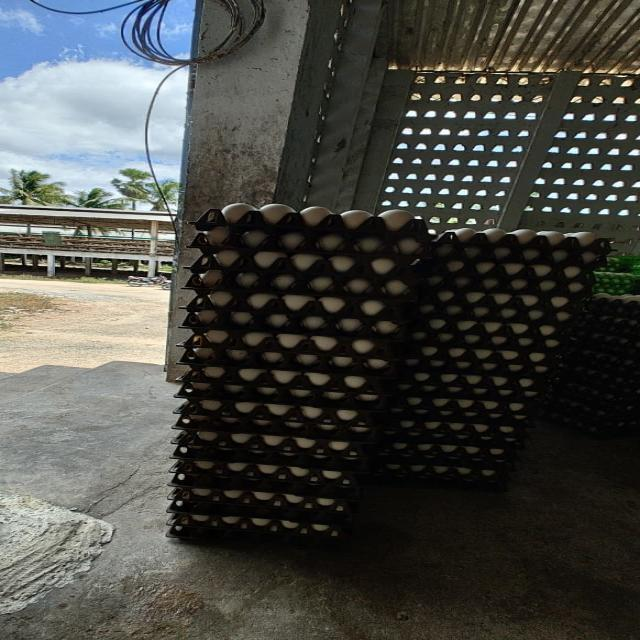egg_tray: (378, 230, 607, 487), (407, 230, 592, 390), (378, 320, 548, 488), (186, 245, 412, 368), (172, 414, 367, 534), (189, 204, 430, 298), (374, 358, 539, 489), (421, 229, 608, 338), (383, 338, 550, 460), (421, 229, 608, 337), (181, 290, 406, 375), (377, 363, 536, 483), (180, 307, 401, 392), (181, 291, 415, 371), (185, 256, 413, 337), (181, 294, 400, 376), (183, 292, 404, 372), (180, 332, 396, 409), (421, 232, 607, 320), (169, 452, 357, 537), (168, 455, 358, 538), (176, 392, 369, 472), (173, 399, 380, 472), (169, 460, 358, 539), (184, 292, 400, 360), (398, 322, 561, 412), (180, 366, 379, 439), (175, 400, 375, 472), (191, 204, 430, 263), (410, 283, 578, 366), (380, 374, 540, 460), (545, 294, 639, 436), (190, 224, 432, 278), (399, 317, 561, 396), (174, 394, 375, 457), (413, 274, 588, 346), (172, 434, 368, 498), (181, 290, 415, 342), (168, 463, 357, 526), (185, 250, 413, 302), (175, 399, 384, 454), (419, 255, 592, 321), (411, 279, 581, 346), (396, 346, 554, 416), (374, 412, 527, 484), (391, 360, 549, 429), (176, 367, 395, 411), (172, 414, 374, 461), (172, 424, 374, 470), (432, 228, 609, 280), (179, 336, 397, 378), (169, 488, 351, 538), (422, 253, 592, 306), (378, 419, 521, 482), (184, 290, 404, 330), (544, 344, 639, 435), (167, 490, 352, 536), (169, 460, 360, 502), (178, 366, 395, 402), (195, 203, 426, 236), (168, 500, 350, 540), (183, 328, 398, 361), (382, 412, 521, 462), (407, 325, 561, 370), (382, 402, 529, 448), (169, 488, 355, 524), (563, 294, 639, 378), (396, 370, 543, 413), (543, 371, 639, 436), (382, 404, 528, 446), (552, 344, 639, 410), (168, 514, 350, 544), (173, 446, 366, 474), (369, 454, 511, 490), (547, 380, 639, 434), (399, 352, 549, 384), (380, 414, 520, 448), (555, 367, 639, 420), (395, 385, 534, 415), (572, 294, 639, 356), (372, 460, 509, 490), (544, 395, 639, 438), (379, 441, 515, 470), (399, 371, 543, 398), (305, 210, 428, 240), (559, 342, 639, 384), (578, 294, 639, 338), (581, 294, 639, 337), (574, 323, 637, 358), (235, 205, 308, 232), (463, 379, 533, 406), (188, 292, 227, 322), (595, 272, 639, 295), (423, 385, 468, 406), (313, 435, 353, 457), (581, 234, 607, 265), (598, 254, 639, 273), (208, 206, 245, 224), (180, 504, 209, 526), (189, 309, 218, 322), (200, 432, 232, 443), (190, 367, 224, 377), (440, 244, 476, 253), (333, 354, 352, 371), (187, 344, 206, 360), (221, 369, 243, 380), (362, 300, 382, 312), (229, 380, 251, 390), (298, 354, 315, 366), (261, 372, 294, 378), (258, 356, 282, 364), (457, 325, 476, 335), (302, 256, 327, 263), (225, 299, 244, 308), (294, 527, 318, 534), (450, 326, 470, 334), (376, 327, 393, 336), (263, 356, 280, 364), (408, 393, 419, 405), (263, 356, 279, 364), (207, 518, 223, 526), (231, 370, 252, 376), (252, 434, 262, 446), (338, 326, 358, 332), (540, 328, 552, 338), (227, 505, 236, 516), (399, 377, 410, 386), (210, 292, 227, 297), (364, 359, 376, 366), (304, 444, 316, 451), (184, 372, 198, 378), (465, 472, 473, 482), (504, 232, 517, 238), (300, 358, 313, 364), (464, 338, 477, 344), (254, 510, 265, 517), (189, 318, 198, 326), (330, 461, 344, 466), (345, 310, 356, 316), (273, 381, 286, 386), (442, 362, 450, 370), (374, 258, 390, 262), (318, 266, 328, 272), (291, 389, 306, 393), (212, 238, 222, 244), (542, 324, 556, 328), (295, 398, 306, 403), (508, 406, 521, 410), (263, 361, 272, 366), (404, 256, 413, 261), (290, 440, 297, 446), (271, 429, 277, 436), (422, 362, 428, 369), (581, 370, 588, 376), (309, 357, 315, 364), (244, 508, 251, 514), (212, 334, 220, 339), (456, 450, 464, 455), (298, 398, 308, 402), (324, 482, 330, 488), (456, 247, 462, 253), (531, 232, 537, 238), (200, 461, 206, 467), (319, 461, 325, 467), (343, 266, 349, 272), (255, 464, 264, 468), (467, 338, 473, 344), (217, 506, 223, 512), (290, 426, 296, 432), (302, 441, 307, 448), (261, 394, 268, 399), (298, 379, 305, 384), (318, 336, 329, 339), (423, 388, 434, 391), (243, 232, 251, 236), (511, 388, 519, 392), (192, 382, 200, 386), (313, 208, 318, 214), (184, 383, 190, 388), (410, 448, 416, 453), (531, 282, 536, 288), (232, 349, 236, 356), (440, 476, 449, 479), (417, 374, 426, 377), (369, 363, 374, 368), (301, 446, 307, 450), (212, 227, 218, 231), (486, 406, 494, 409), (305, 374, 311, 378), (633, 342, 639, 346), (213, 292, 224, 294), (549, 283, 552, 290), (357, 435, 361, 440), (291, 296, 301, 298), (349, 324, 354, 328), (488, 452, 492, 457), (445, 245, 451, 248), (187, 476, 196, 478), (287, 327, 293, 330), (322, 528, 328, 531), (490, 322, 499, 324), (200, 489, 206, 492), (265, 444, 269, 448), (268, 352, 276, 354), (420, 474, 424, 478), (257, 294, 265, 296), (243, 492, 251, 494), (533, 376, 537, 380), (571, 241, 576, 244), (197, 351, 202, 354), (499, 371, 504, 374), (196, 461, 201, 464), (466, 464, 471, 467), (548, 344, 553, 347), (565, 274, 572, 276), (365, 398, 372, 400), (328, 532, 335, 534), (258, 492, 265, 494), (323, 342, 329, 344), (207, 222, 213, 224), (420, 470, 423, 474), (343, 262, 349, 264), (453, 474, 456, 478), (485, 467, 489, 470), (488, 458, 494, 460), (402, 451, 408, 453), (497, 322, 500, 326), (312, 374, 323, 375), (185, 344, 190, 346), (536, 250, 541, 252), (335, 390, 340, 392), (271, 372, 276, 374), (185, 408, 190, 410), (523, 336, 528, 338), (245, 398, 250, 400), (213, 356, 216, 359), (448, 385, 451, 388), (197, 317, 200, 320), (382, 270, 385, 273), (252, 502, 255, 505), (313, 358, 317, 360), (247, 248, 251, 250), (539, 336, 543, 338), (563, 240, 567, 242), (320, 528, 324, 530), (247, 380, 251, 382), (289, 328, 293, 330), (428, 384, 432, 386), (409, 305, 413, 307), (428, 385, 432, 387), (411, 470, 415, 472), (465, 467, 472, 468), (285, 432, 288, 434), (202, 425, 208, 426), (482, 364, 485, 366), (474, 416, 477, 418), (299, 390, 302, 392), (207, 378, 210, 380), (416, 336, 419, 338), (350, 340, 353, 342), (419, 468, 422, 470), (498, 345, 503, 346), (402, 392, 406, 393), (202, 405, 206, 406), (441, 331, 445, 332), (240, 387, 244, 388), (633, 347, 637, 348), (444, 398, 448, 399), (268, 391, 270, 393), (374, 218, 376, 220), (398, 344, 400, 346), (374, 346, 375, 350), (476, 234, 479, 235), (200, 490, 203, 491), (361, 364, 362, 366), (263, 350, 264, 352), (233, 344, 234, 346), (368, 238, 369, 240), (505, 240, 506, 242), (424, 422, 426, 423), (218, 325, 219, 327), (196, 300, 197, 302), (451, 471, 452, 473), (490, 327, 492, 328), (331, 502, 333, 503), (342, 404, 343, 406), (209, 467, 210, 468), (236, 354, 237, 355), (232, 354, 233, 355), (412, 363, 413, 364), (308, 305, 309, 306), (186, 383, 187, 384), (322, 380, 323, 381), (422, 447, 423, 448), (196, 486, 197, 486), (238, 474, 240, 474), (528, 305, 530, 305), (440, 247, 442, 247), (536, 358, 536, 359), (276, 445, 277, 445), (322, 237, 323, 237), (333, 234, 334, 234), (221, 227, 223, 227), (290, 221, 290, 221), (409, 474, 410, 474), (395, 474, 396, 474), (429, 472, 430, 472), (418, 374, 423, 374), (551, 332, 552, 332), (636, 346, 636, 346), (427, 310, 428, 310), (538, 328, 539, 328), (487, 323, 488, 323), (451, 434, 453, 434), (414, 350, 414, 350), (377, 367, 383, 367), (238, 359, 240, 359), (204, 352, 206, 352), (203, 441, 206, 441), (209, 532, 212, 532), (436, 369, 436, 370), (434, 361, 434, 361), (366, 394, 368, 394), (360, 393, 360, 394), (222, 325, 223, 325), (192, 308, 192, 308), (272, 301, 275, 301), (312, 530, 314, 530), (302, 363, 304, 363), (228, 354, 230, 354), (436, 405, 436, 405), (492, 368, 494, 368), (195, 267, 198, 267), (317, 459, 320, 459), (224, 457, 226, 457), (576, 235, 578, 235), (401, 414, 402, 414), (372, 396, 372, 397), (197, 378, 198, 378), (481, 474, 482, 474), (439, 465, 441, 465), (335, 217, 339, 217), (290, 532, 290, 533), (260, 530, 260, 530), (452, 356, 454, 356), (412, 367, 412, 370), (494, 479, 496, 479)
